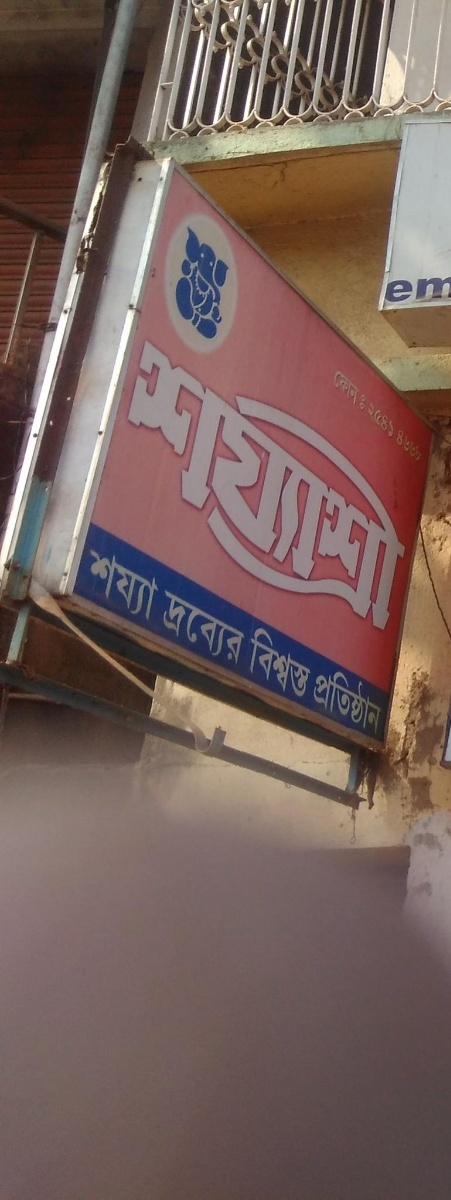text: (161, 319, 176, 647), (177, 319, 192, 647), (193, 319, 208, 647), (209, 319, 224, 647), (225, 319, 240, 647), (241, 319, 256, 647), (257, 319, 272, 647), (273, 319, 288, 647), (289, 319, 304, 647), (305, 319, 320, 647), (321, 319, 336, 647), (337, 319, 352, 647), (353, 319, 368, 647), (369, 319, 384, 647), (385, 319, 400, 647), (401, 319, 416, 647), (417, 319, 426, 647), (155, 319, 160, 647), (257, 626, 272, 706), (273, 626, 288, 706), (289, 626, 304, 706), (177, 591, 192, 670), (193, 591, 208, 670), (209, 591, 224, 670), (225, 591, 240, 670), (321, 663, 336, 739), (337, 663, 352, 739), (353, 663, 368, 739), (369, 663, 384, 739), (97, 550, 112, 625), (113, 550, 128, 625), (129, 550, 144, 625), (145, 550, 160, 625), (385, 401, 400, 462), (401, 401, 416, 462), (305, 626, 316, 706), (166, 591, 176, 670), (373, 401, 384, 462), (241, 591, 248, 670), (337, 372, 352, 405), (401, 277, 416, 309), (417, 277, 432, 309), (433, 277, 448, 309), (386, 277, 400, 309), (91, 550, 96, 625), (417, 401, 422, 462), (385, 663, 389, 739), (353, 372, 361, 405), (361, 392, 368, 411), (255, 626, 256, 706), (161, 550, 162, 625), (449, 277, 451, 309)
